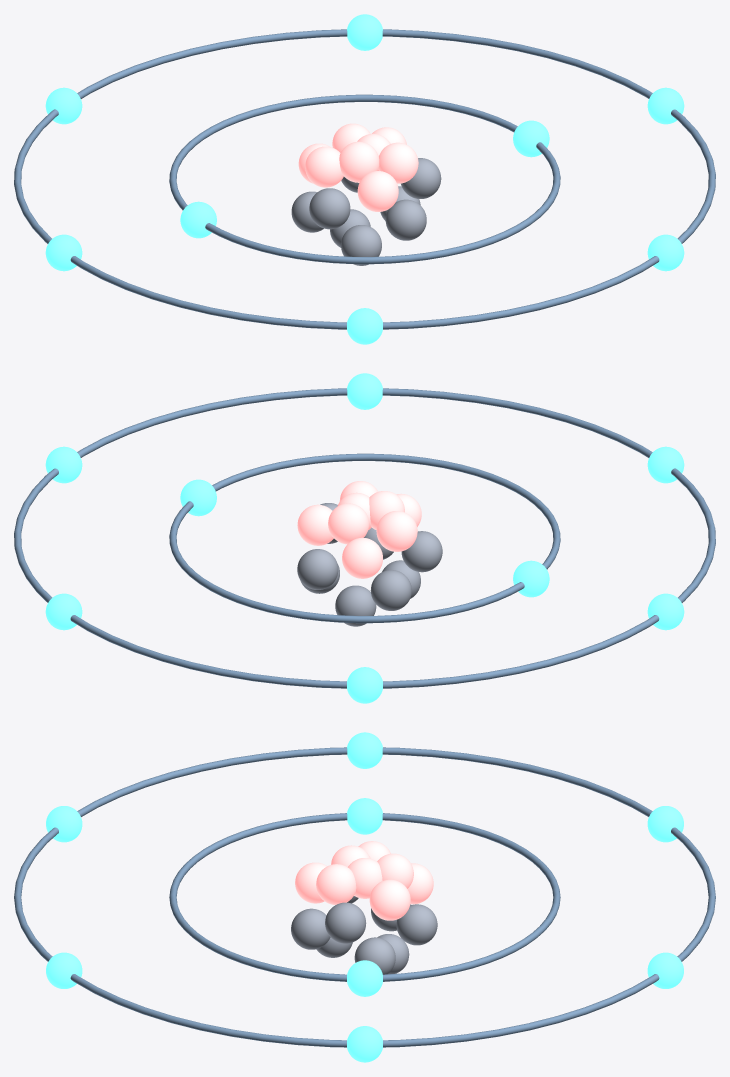
The model's file is oxygen-atom.glb.
3 views of the same model, one above another, from view 1: azimuth 30°, elevation 25°; view 2: azimuth 150°, elevation 25°; view 3: azimuth 270°, elevation 25° (orthographic).
Visible parts, largest first — view 1: shell_ring_1, shell_ring_0, nucleon_9, nucleon_11, nucleon_6, nucleon_1, nucleon_4, nucleon_3, nucleon_14, electron_1_1, electron_1_4, nucleon_8 (+9 smaller); view 2: shell_ring_1, shell_ring_0, nucleon_7, nucleon_4, nucleon_12, nucleon_10, nucleon_2, nucleon_9, nucleon_5, nucleon_15, electron_1_2, electron_1_5 (+7 smaller); view 3: shell_ring_1, shell_ring_0, nucleon_5, nucleon_8, nucleon_3, nucleon_10, nucleon_11, electron_0_0, electron_0_1, electron_1_0, electron_1_3, electron_1_1 (+10 smaller).
Boxes of the visible parts, left/top/right/bottom form: shell_ring_1: left=14, top=29, right=715, bottom=329; shell_ring_0: left=169, top=94, right=560, bottom=264; nucleon_9: left=309, top=188, right=350, bottom=229; nucleon_11: left=385, top=199, right=426, bottom=240; nucleon_6: left=357, top=171, right=398, bottom=211; nucleon_1: left=339, top=141, right=379, bottom=182; nucleon_4: left=305, top=146, right=343, bottom=187; nucleon_3: left=378, top=142, right=418, bottom=183; nucleon_14: left=341, top=225, right=381, bottom=265; electron_1_1: left=347, top=14, right=382, bottom=50; electron_1_4: left=347, top=308, right=382, bottom=344; nucleon_8: left=401, top=158, right=441, bottom=198; shell_ring_1: left=14, top=388, right=715, bottom=688; shell_ring_0: left=169, top=453, right=560, bottom=623; nucleon_7: left=342, top=537, right=382, bottom=578; nucleon_4: left=376, top=511, right=417, bottom=551; nucleon_12: left=370, top=570, right=411, bottom=610; nucleon_10: left=297, top=549, right=338, bottom=589; nucleon_2: left=328, top=503, right=369, bottom=544; nucleon_9: left=401, top=531, right=442, bottom=572; nucleon_5: left=297, top=504, right=333, bottom=545; nucleon_15: left=335, top=585, right=376, bottom=626; electron_1_2: left=347, top=667, right=382, bottom=703; electron_1_5: left=347, top=373, right=382, bottom=409; shell_ring_1: left=14, top=747, right=715, bottom=1047; shell_ring_0: left=169, top=813, right=560, bottom=981; nucleon_5: left=369, top=879, right=410, bottom=920; nucleon_8: left=325, top=902, right=366, bottom=943; nucleon_3: left=316, top=864, right=356, bottom=904; nucleon_10: left=396, top=904, right=437, bottom=945; nucleon_11: left=291, top=908, right=330, bottom=949; electron_0_0: left=347, top=960, right=382, bottom=996; electron_0_1: left=347, top=798, right=382, bottom=834; electron_1_0: left=347, top=1026, right=382, bottom=1062; electron_1_3: left=347, top=732, right=382, bottom=768; electron_1_1: left=647, top=952, right=683, bottom=988.
Bounding box in the file's own units: 0.16 × 0.0292 × 0.1536.
